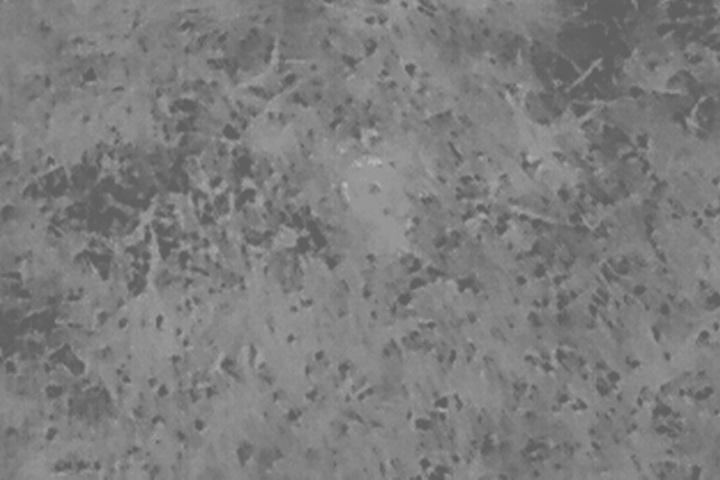landmine: (340, 150, 405, 215)
